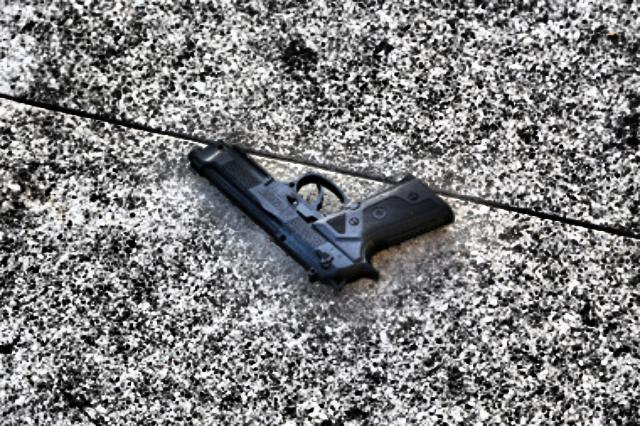pistol: (183, 137, 454, 291)
